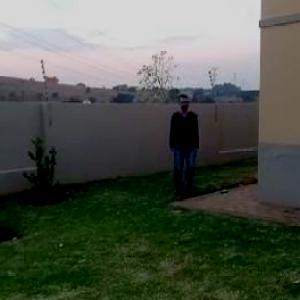follow: (165, 91, 202, 207)
